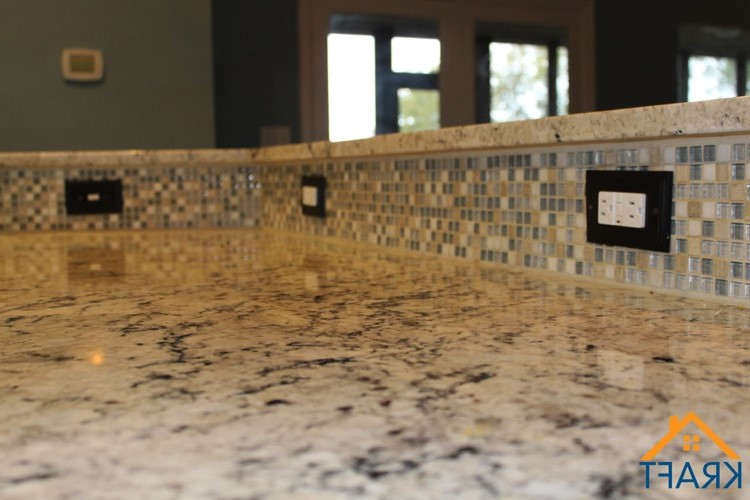outlet: (623, 196, 643, 222), (596, 196, 614, 220)
